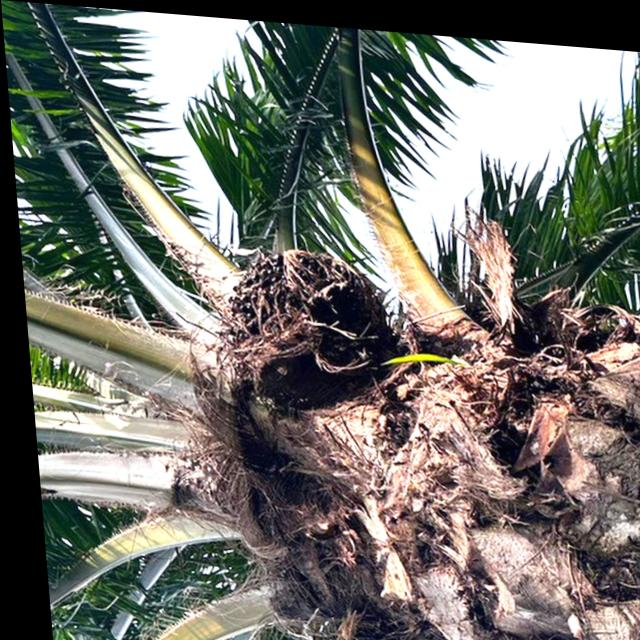unripe: (199, 228, 390, 419)
